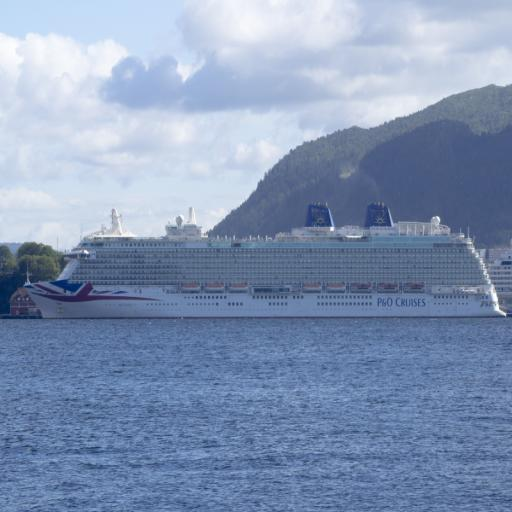cruises: (20, 199, 509, 325)
